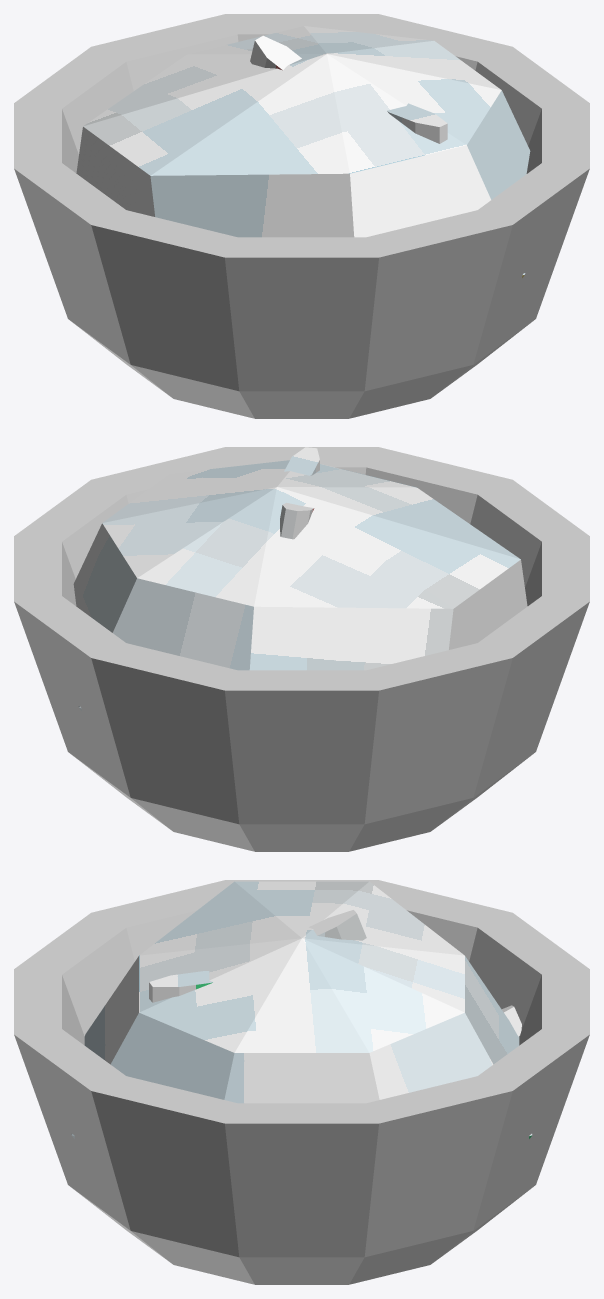
Rendered from rice.fbx.
The picture shows the model from 3 angles, top to bottom: view 1: azimuth 30°, elevation 25°; view 2: azimuth 150°, elevation 25°; view 3: azimuth 270°, elevation 25°; orthographic projection.
Parts seen in each view (by area): view 1: cylinder, sphere; view 2: cylinder, sphere; view 3: cylinder, sphere.
Boxes of the visible parts, box(x1,y1,x2,y2) form: cylinder: box(14, 14, 589, 418); sphere: box(76, 26, 530, 277); cylinder: box(14, 447, 589, 851); sphere: box(73, 447, 527, 710); cylinder: box(14, 880, 589, 1284); sphere: box(71, 881, 532, 1138).
Bounding box in the file's own units: 62.5 × 34.92 × 62.5.
Materials: 1 (1 with a texture image).
